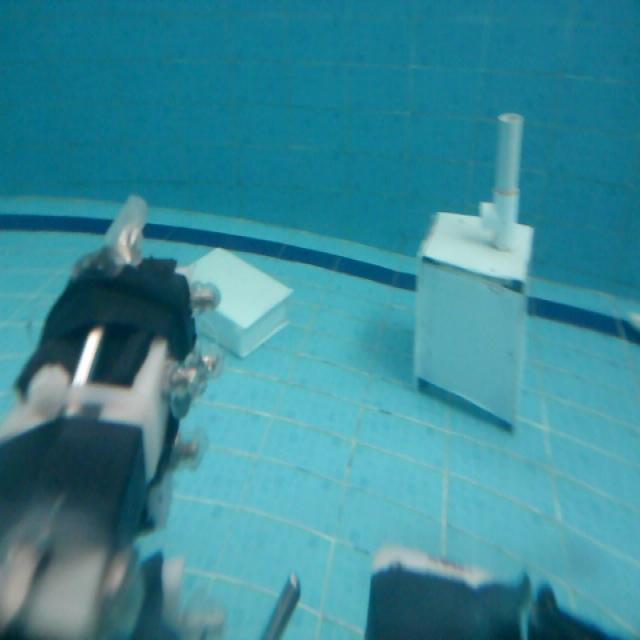Cube: (411, 204, 535, 428)
Cuboid: (176, 242, 294, 358)
